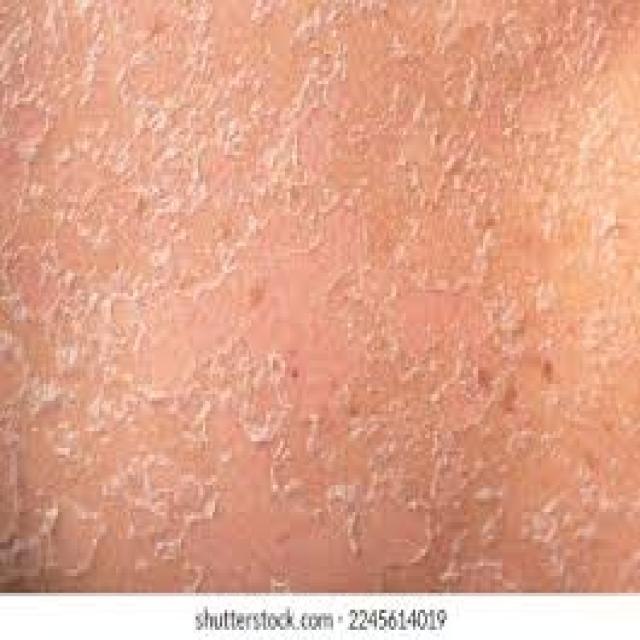flakiness: (11, 82, 543, 524)
